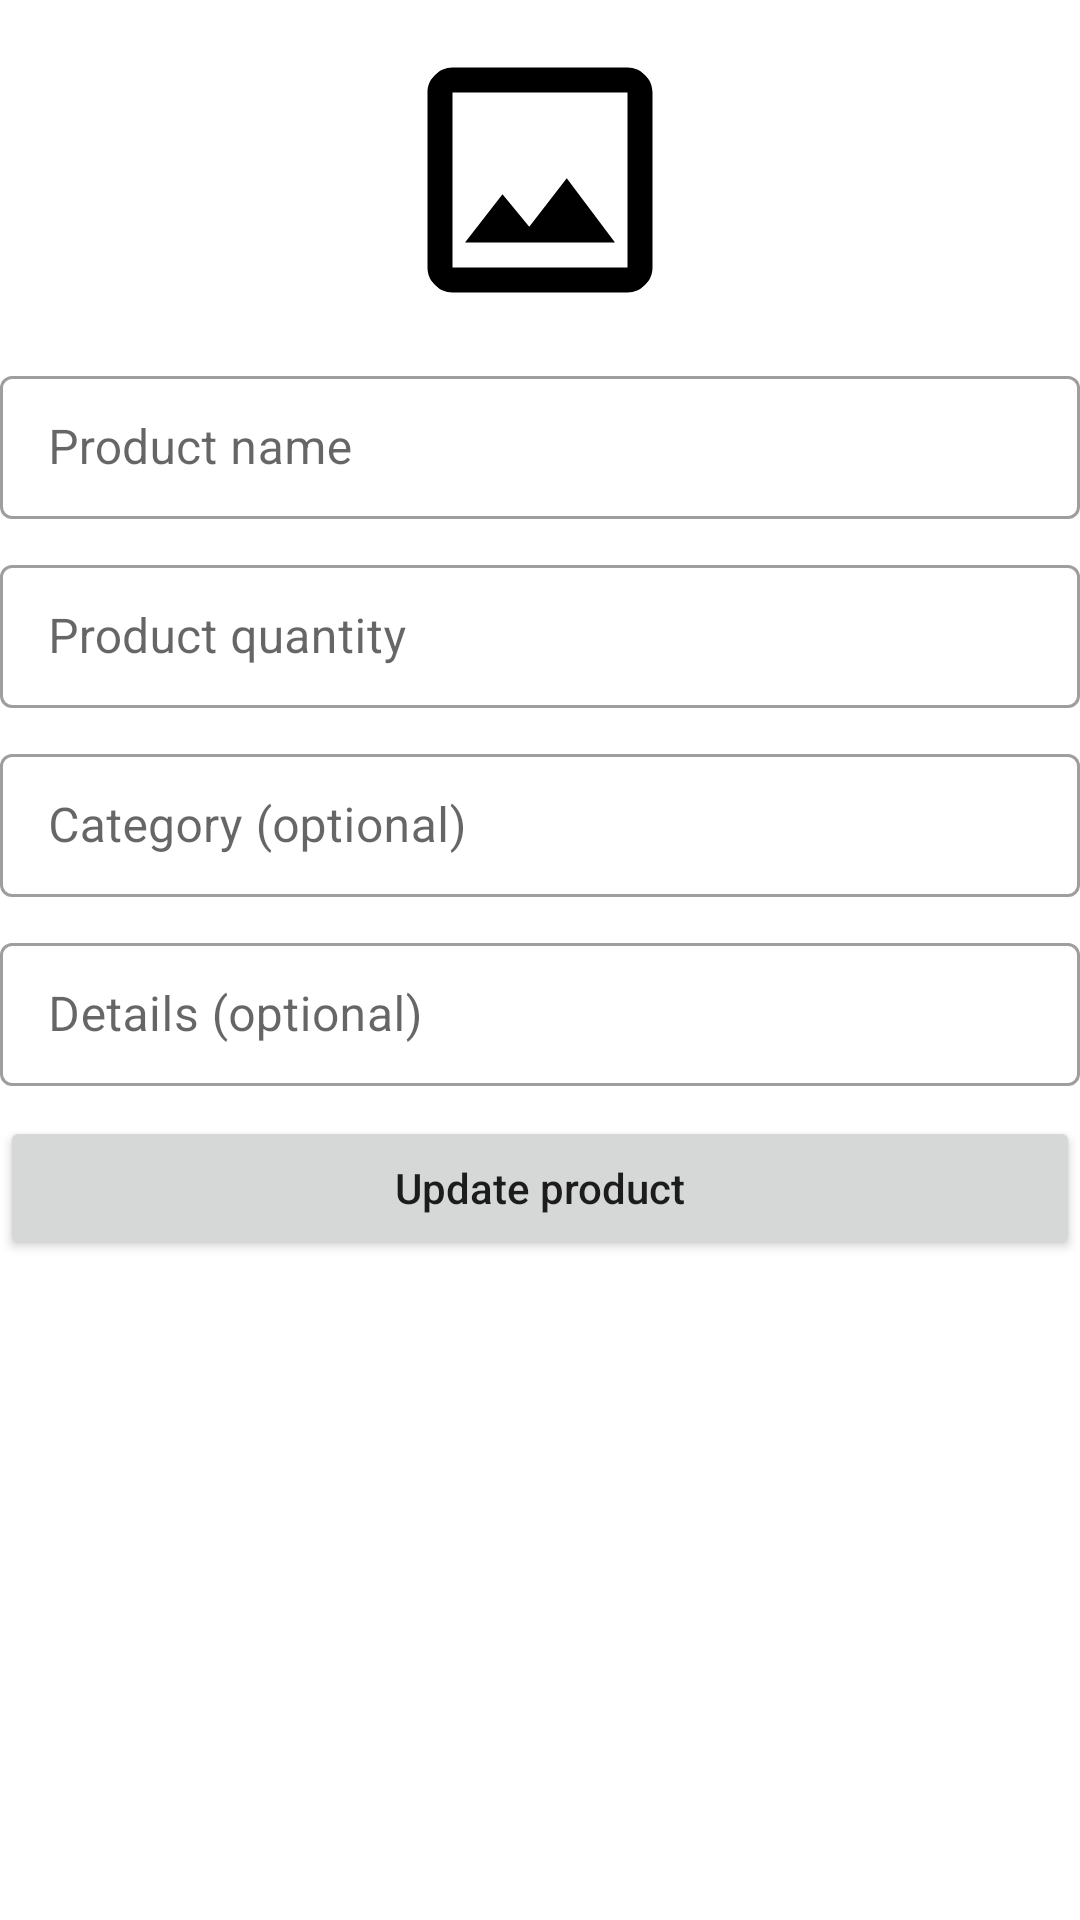

Screen size 1080×1920. Icon name, then its box in pixels as Rect(x1, y1, x2, y2):
empty photo: Rect(427, 67, 653, 293)
